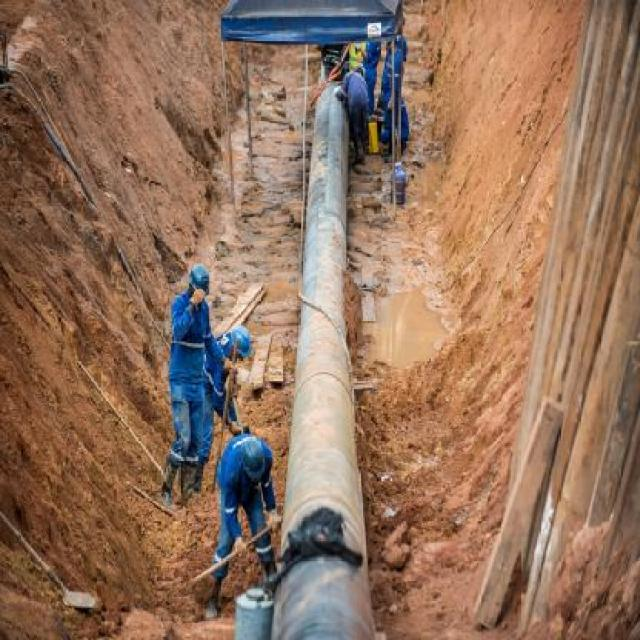gas: (274, 63, 375, 635)
